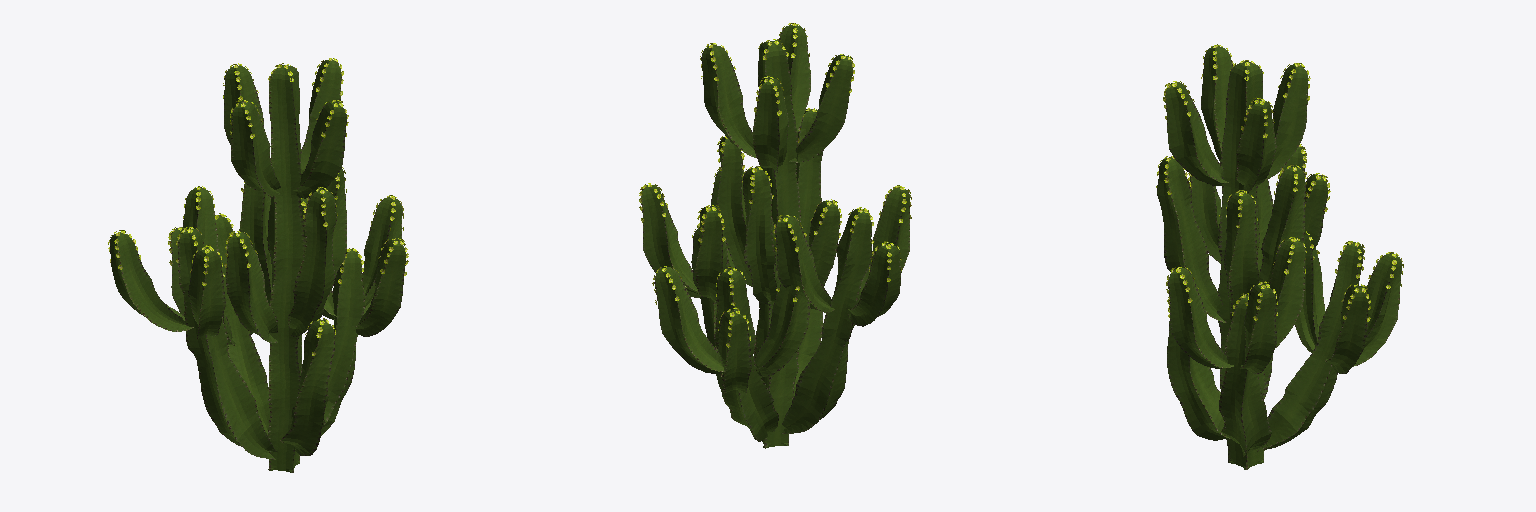
3 renders of one model, left to right at view 1: azimuth 30°, elevation 25°; view 2: azimuth 150°, elevation 25°; view 3: azimuth 270°, elevation 25°, orthographic.
Parts seen in each view (by area): view 1: Euphorbia_candelabrum_HD_Euphorbia_cand_skin_01_0, Euphorbia_candelabrum_HD_Euphorbia_cand_skin_03_0, Euphorbia_candelabrum_HD_Euphorbia_cand_skin_02_0, Euphorbia_candelabrum_HD_Euphorbia_cand_flower_0; view 2: Euphorbia_candelabrum_HD_Euphorbia_cand_skin_03_0, Euphorbia_candelabrum_HD_Euphorbia_cand_skin_01_0, Euphorbia_candelabrum_HD_Euphorbia_cand_skin_02_0, Euphorbia_candelabrum_HD_Euphorbia_cand_flower_0; view 3: Euphorbia_candelabrum_HD_Euphorbia_cand_skin_03_0, Euphorbia_candelabrum_HD_Euphorbia_cand_skin_01_0, Euphorbia_candelabrum_HD_Euphorbia_cand_skin_02_0, Euphorbia_candelabrum_HD_Euphorbia_cand_flower_0.
Boxes of the visible parts, x1=… form: Euphorbia_candelabrum_HD_Euphorbia_cand_skin_01_0: x1=178, y1=65, x2=364, y2=468; Euphorbia_candelabrum_HD_Euphorbia_cand_skin_03_0: x1=110, y1=60, x2=405, y2=345; Euphorbia_candelabrum_HD_Euphorbia_cand_skin_02_0: x1=226, y1=169, x2=346, y2=342; Euphorbia_candelabrum_HD_Euphorbia_cand_flower_0: x1=108, y1=58, x2=408, y2=355; Euphorbia_candelabrum_HD_Euphorbia_cand_skin_03_0: x1=641, y1=25, x2=909, y2=394; Euphorbia_candelabrum_HD_Euphorbia_cand_skin_01_0: x1=691, y1=40, x2=871, y2=443; Euphorbia_candelabrum_HD_Euphorbia_cand_skin_02_0: x1=717, y1=109, x2=839, y2=304; Euphorbia_candelabrum_HD_Euphorbia_cand_flower_0: x1=639, y1=23, x2=911, y2=347; Euphorbia_candelabrum_HD_Euphorbia_cand_skin_03_0: x1=1165, y1=46, x2=1401, y2=374; Euphorbia_candelabrum_HD_Euphorbia_cand_skin_01_0: x1=1167, y1=61, x2=1363, y2=465; Euphorbia_candelabrum_HD_Euphorbia_cand_skin_02_0: x1=1157, y1=157, x2=1305, y2=322; Euphorbia_candelabrum_HD_Euphorbia_cand_flower_0: x1=1156, y1=44, x2=1403, y2=321.
Size of the model in its own units: 0.6685 by 0.9315 by 0.5216.
Materials: 5 (3 with a texture image).